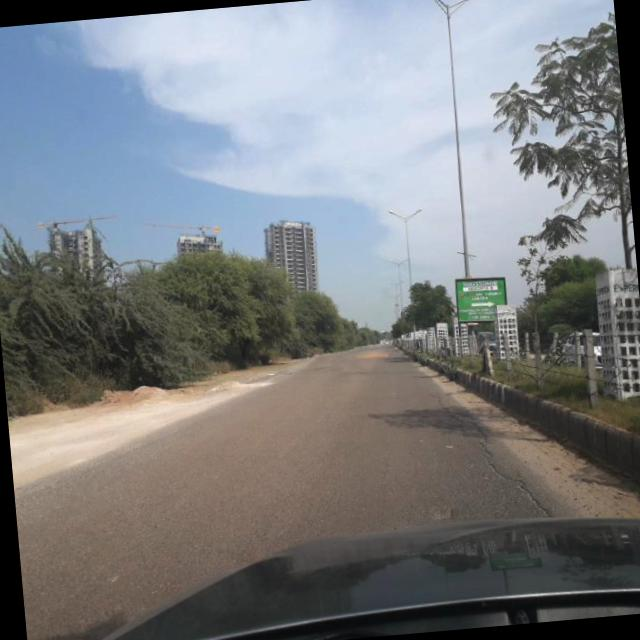crack: (421, 362, 542, 520)
